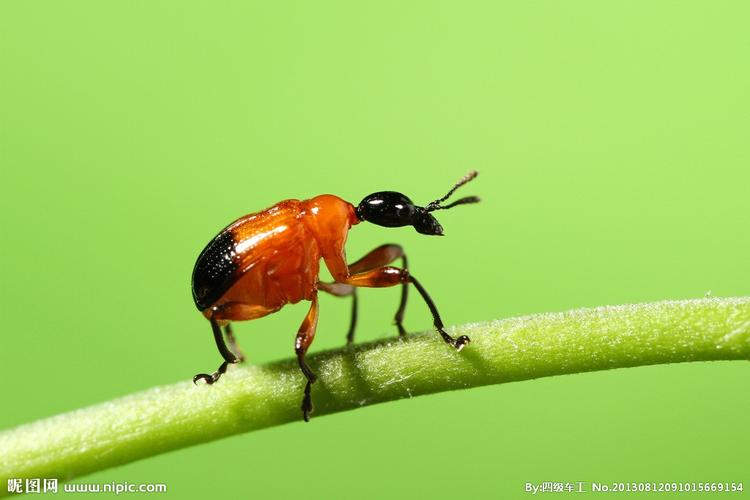Curculionidae: (190, 168, 479, 423)
